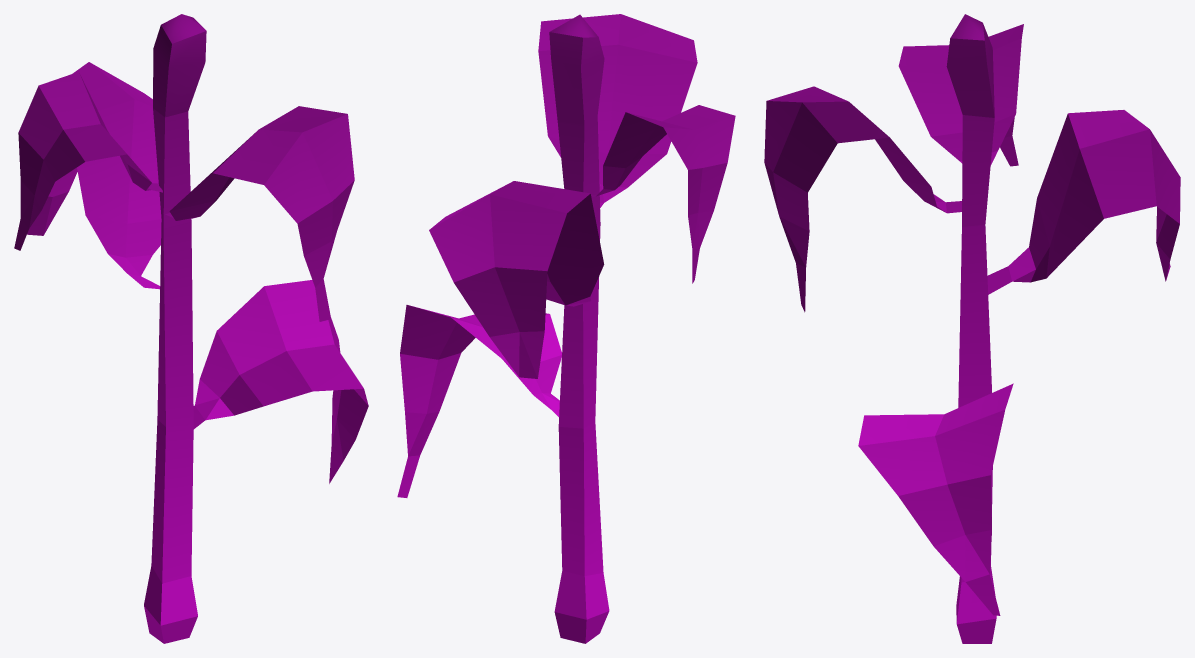
Rendered from SM_Prop_Plant_Corn_01_S.fbx.
3 renders of one model, left to right at view 1: azimuth 30°, elevation 25°; view 2: azimuth 150°, elevation 25°; view 3: azimuth 270°, elevation 25°, orthographic.
Visible parts, largest first — view 1: SM_Prop_Plant_Corn_01_S; view 2: SM_Prop_Plant_Corn_01_S; view 3: SM_Prop_Plant_Corn_01_S.
Part boxes in pixels (bbox=[...]): SM_Prop_Plant_Corn_01_S: bbox=[14, 14, 368, 643]; SM_Prop_Plant_Corn_01_S: bbox=[397, 14, 735, 643]; SM_Prop_Plant_Corn_01_S: bbox=[764, 14, 1180, 643].
Size of the model in its own units: 51.15 by 98.23 by 59.12.
